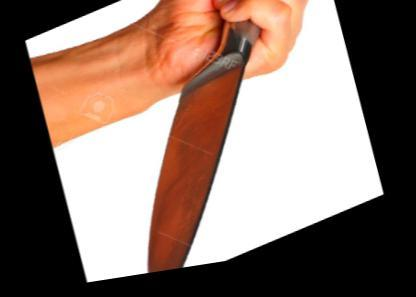knife: (74, 0, 369, 285)
